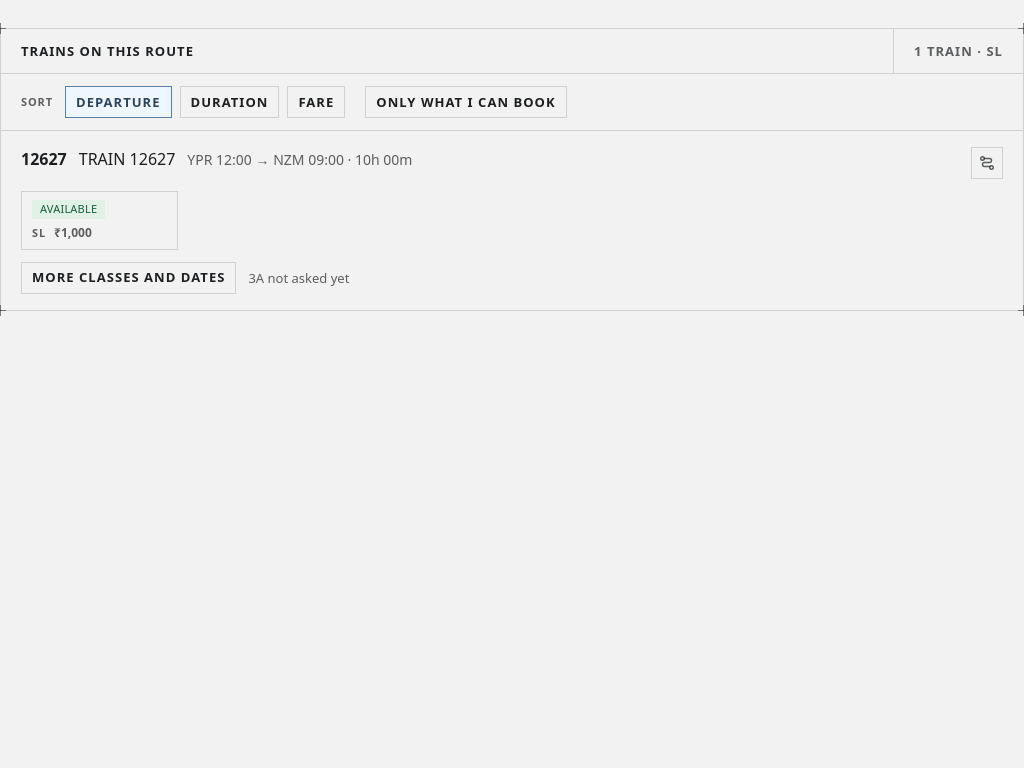
opening a row › shows the other three dates, which cost nothing extra
Click the button "More classes and dates". click: click(129, 278)
box: [21, 262, 236, 294]
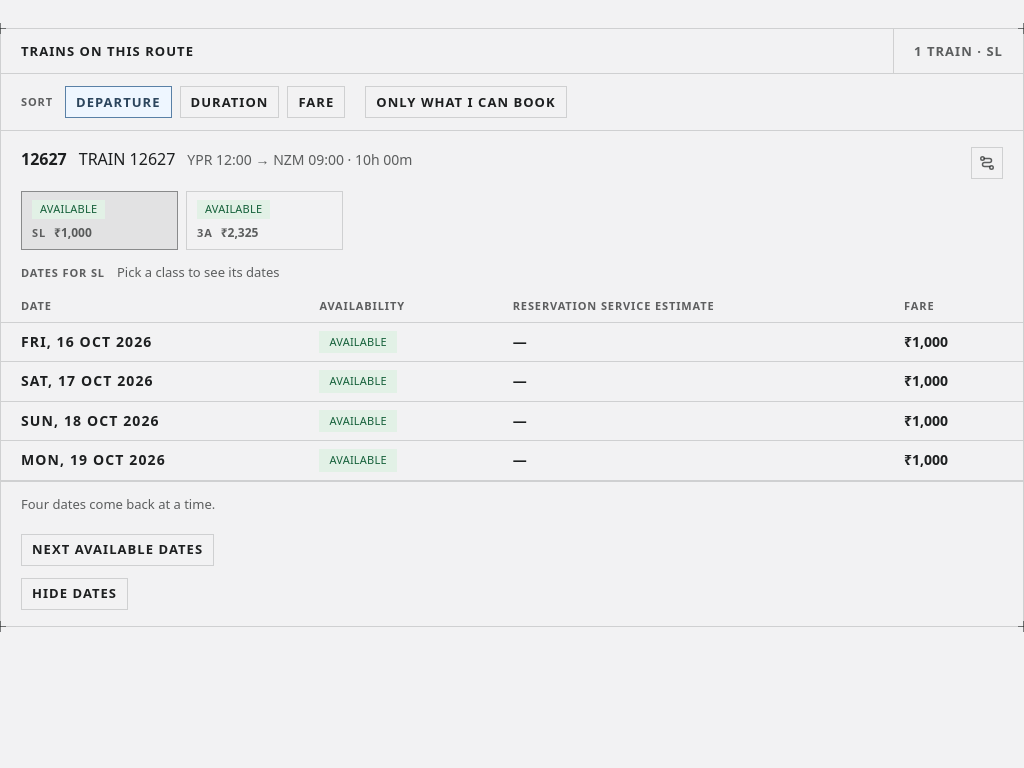
Expected: the table "Availability" is shown, [1, 290, 1023, 480]
Expected: the number of rows is 5, [1, 290, 1023, 322]; [1, 322, 1023, 362]; [1, 362, 1023, 401]; [1, 401, 1023, 440]; [1, 440, 1023, 480]
